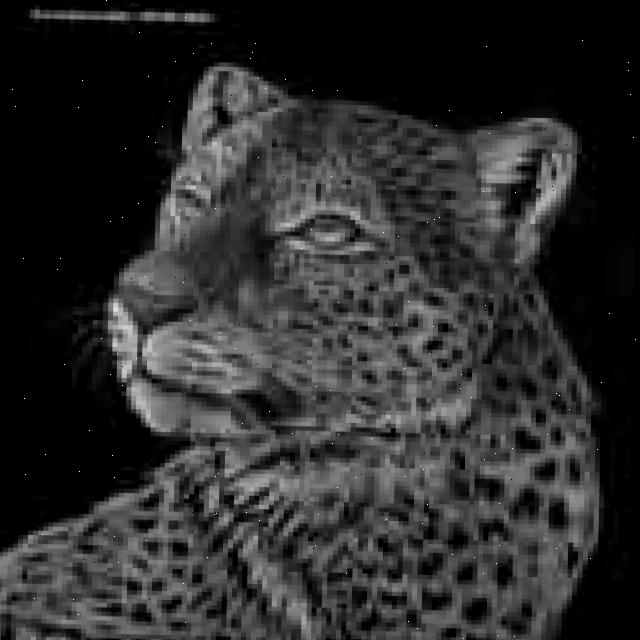Leopard: (45, 60, 545, 567)
